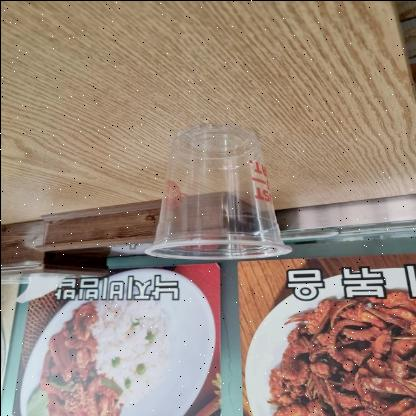Others: (146, 122, 290, 258)
